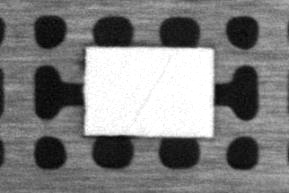DIE_CRACK: (129, 55, 171, 131)
